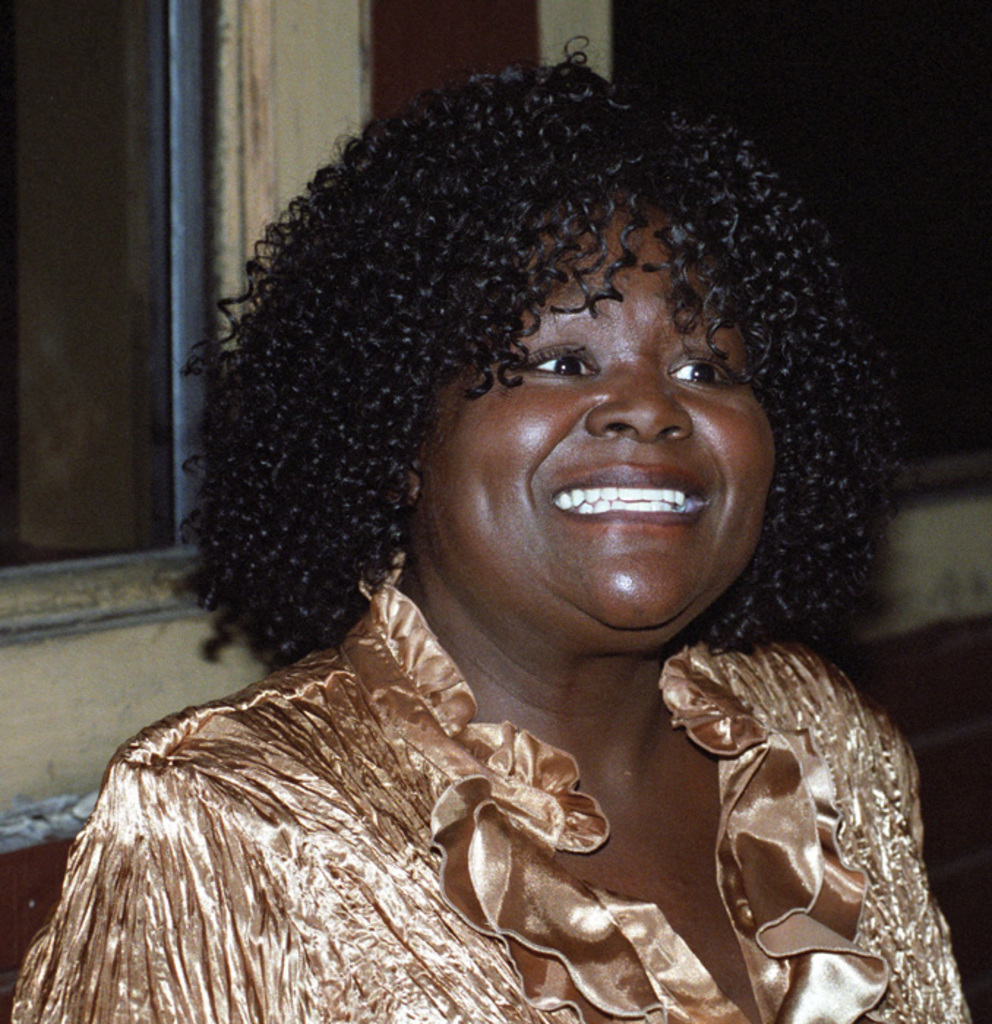face: (451, 180, 772, 636)
